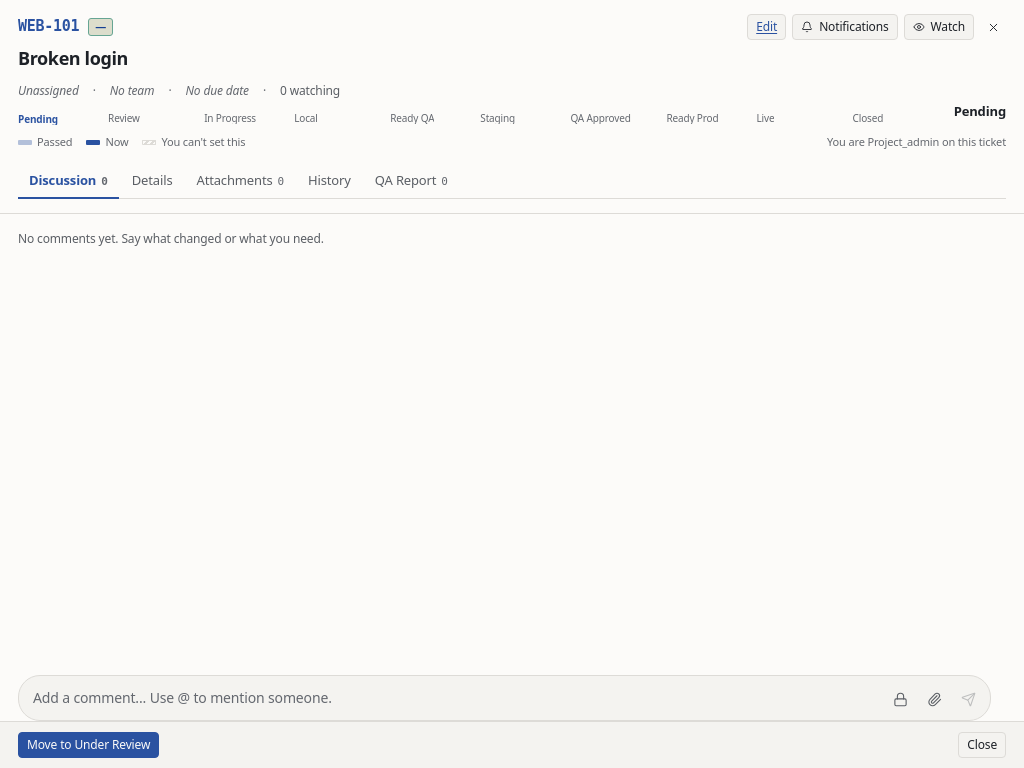
it: TicketDetailDrawer › shows editable estimate dates in the metadata rail for project admin
This screenshot has width=1024, height=768.
Expected: the text "WEB-101" is shown, [18,16,79,38]
Click the tab "Details". click: (152, 182)
box: [121,164,184,199]
(page scrolled)
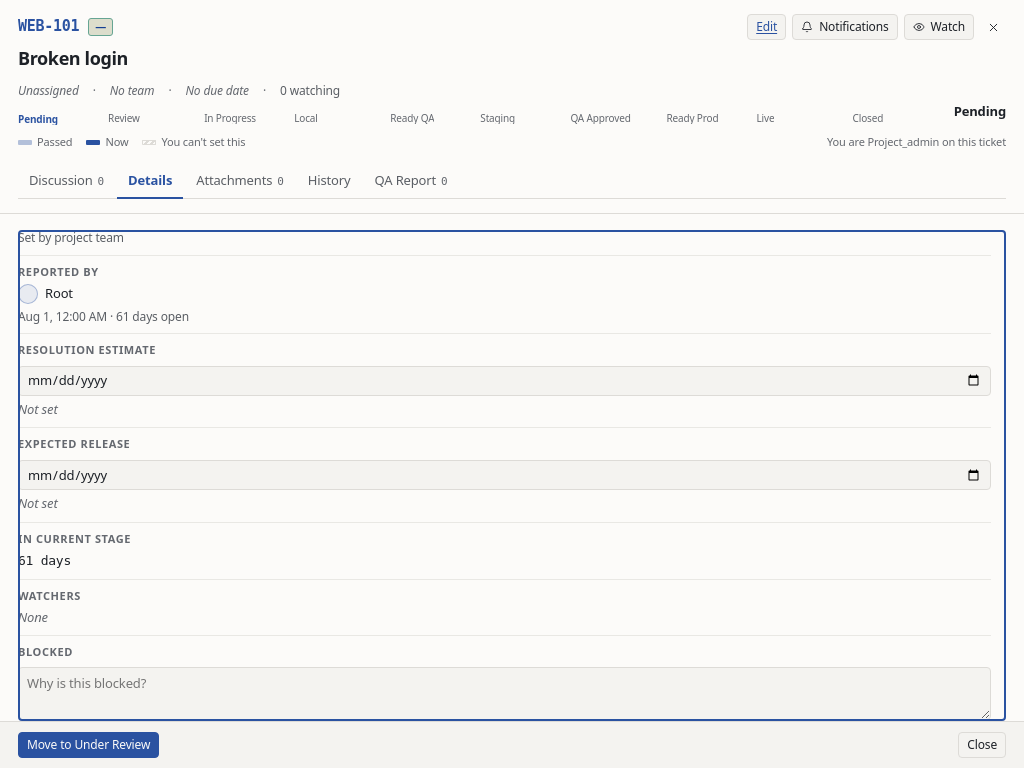
Result: the date field with id "estimatedResolutionAt" is shown at [18,366,991,396]
Result: the date field with id "expectedReleaseDate" is shown at [18,460,991,490]
